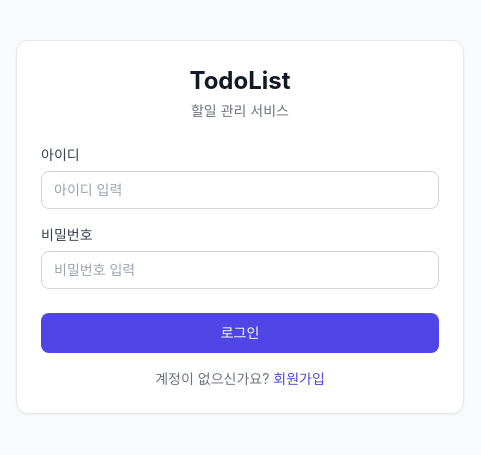
Test: LoginPage › 빈 폼 제출 시 클라이언트 에러 메시지가 표시된다
Click the button "로그인": point(240, 333) [41,313,439,353]
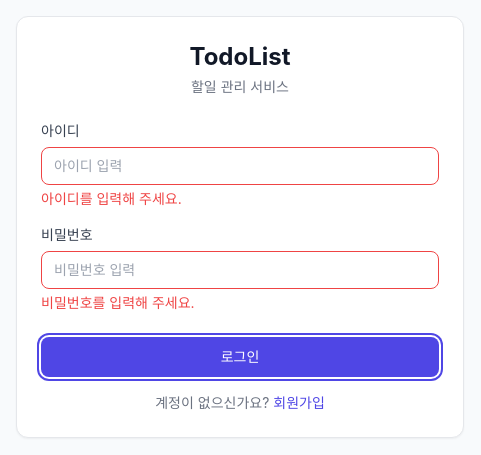
Result: the text "아이디를 입력해 주세요." is shown at [41,190,182,207]
Result: the text "비밀번호를 입력해 주세요." is shown at [41,294,195,311]
